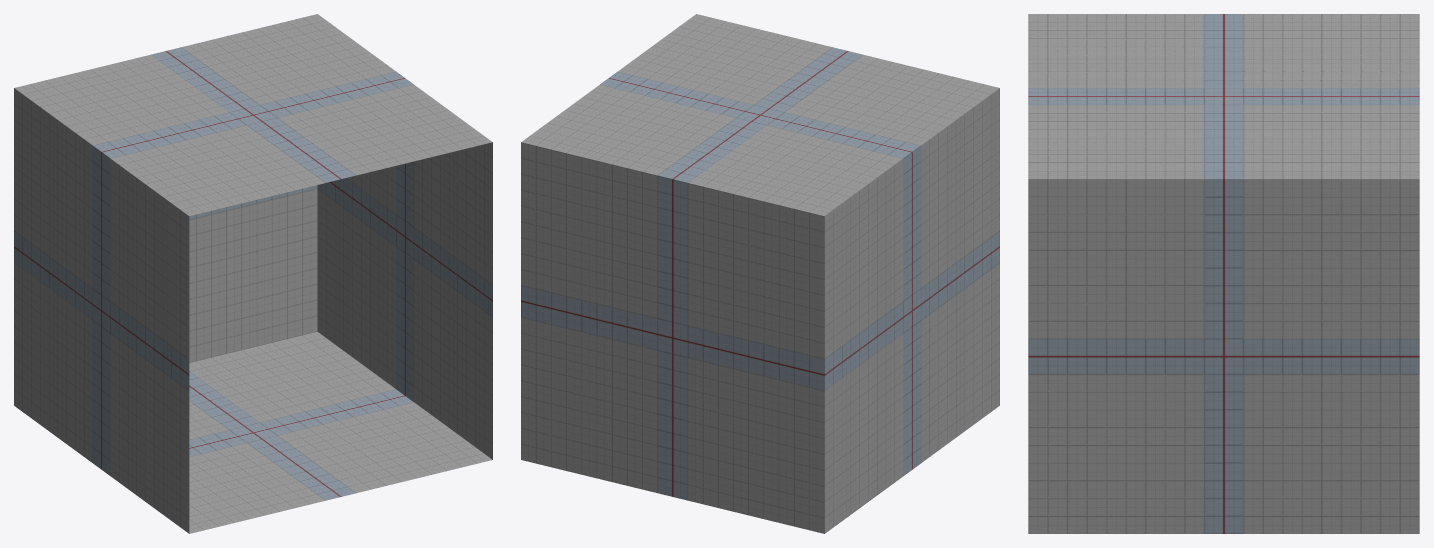
Rendered from Sandbox.fbx.
3 views of the same model, side by side, from view 1: azimuth 30°, elevation 25°; view 2: azimuth 150°, elevation 25°; view 3: azimuth 270°, elevation 25° (orthographic). The views are drawn at different scales.
Parts seen in each view (by area): view 1: Tile_011; view 2: Tile_011; view 3: Tile_011.
Part boxes in pixels (<box>): Tile_011: <box>14,14,492,533</box>; Tile_011: <box>521,14,999,533</box>; Tile_011: <box>1028,14,1419,533</box>.
Bounding box in the file's own units: 20 × 20 × 20.
Materials: 1 (1 with a texture image).
